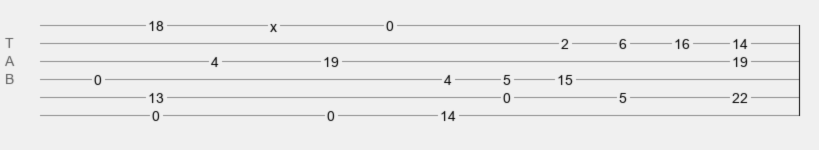0: (94, 72, 102, 82), (152, 108, 160, 118), (327, 108, 335, 118), (386, 18, 394, 28), (503, 90, 511, 100)
13: (148, 90, 164, 100)
14: (440, 108, 456, 118), (732, 36, 748, 46)
15: (557, 72, 573, 82)
16: (674, 36, 690, 46)
18: (148, 18, 164, 28)
19: (323, 54, 339, 64), (732, 54, 748, 64)
2: (561, 36, 569, 46)
22: (732, 90, 748, 100)
4: (211, 54, 219, 64), (444, 72, 452, 82)
5: (503, 72, 511, 82), (619, 90, 627, 100)
6: (619, 36, 627, 46)
x: (270, 19, 277, 27)
